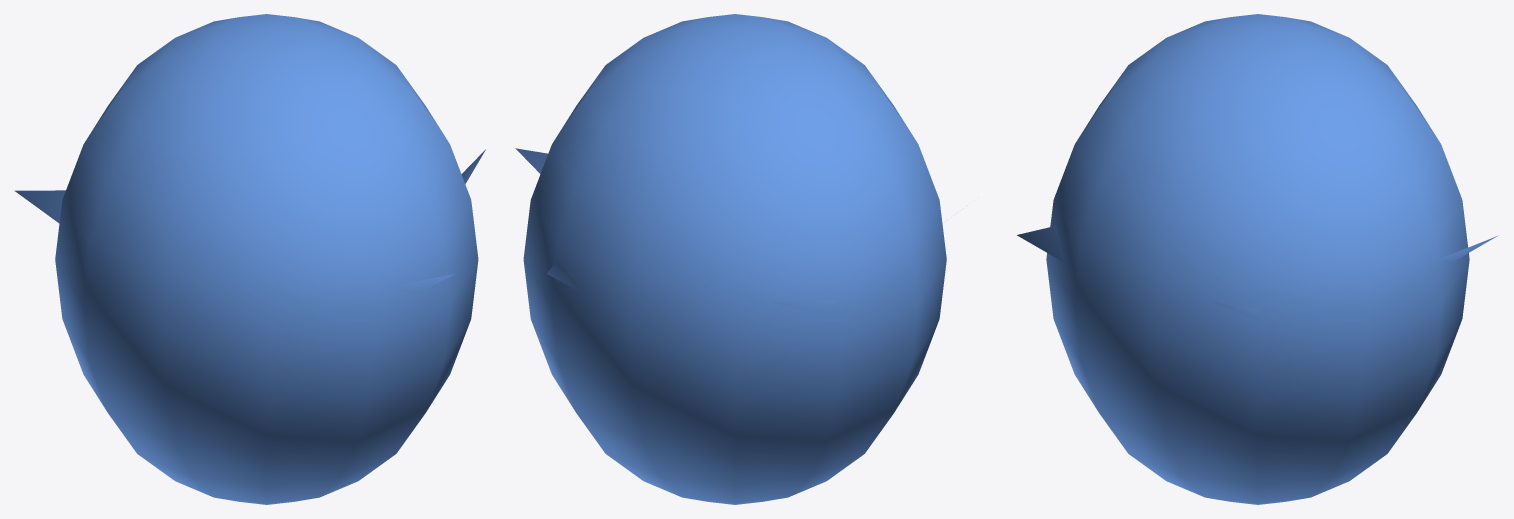
The model's file is Vaporino_stage2.obj.
The picture shows the model from 3 angles, left to right: view 1: azimuth 30°, elevation 25°; view 2: azimuth 150°, elevation 25°; view 3: azimuth 270°, elevation 25°; orthographic projection.
Bounding box in the file's own units: 2.2 × 2.4 × 2.28.
